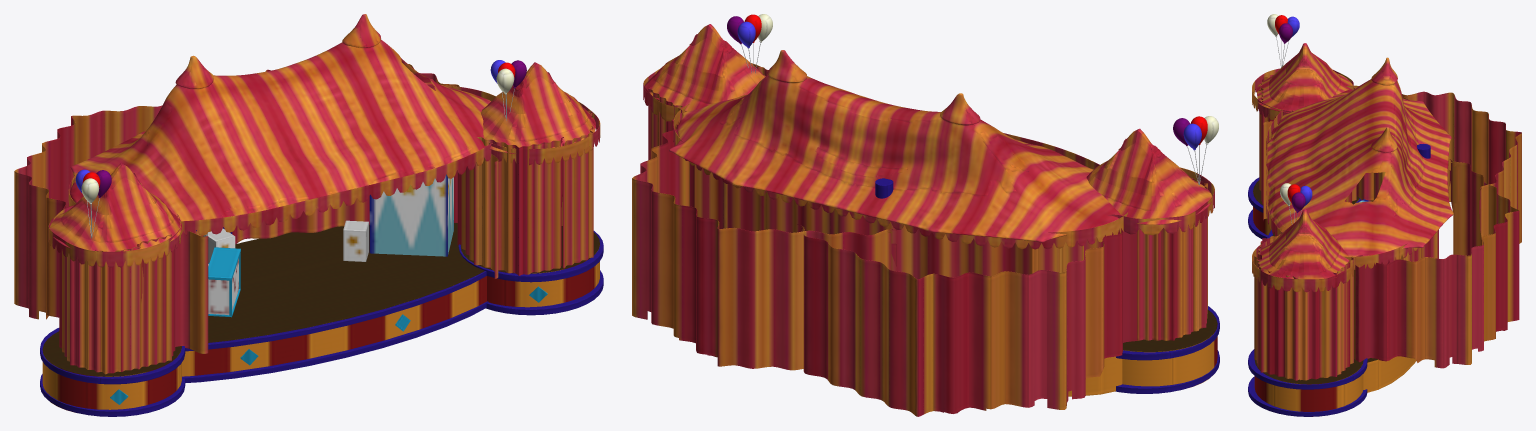
File: circus_playhouse_stage.glb
3 views of the same model, side by side, from view 1: azimuth 30°, elevation 25°; view 2: azimuth 150°, elevation 25°; view 3: azimuth 270°, elevation 25° (orthographic). The views are drawn at different scales.
Visible parts, largest first — view 1: tent, Main_Stage, Courtain_2, Courtain_3, courtain_2, Lionel_stage, Cubo, Ellie_stage, courtain, Courtain_2_2, Charlie_s_piano_1, Courtain (+3 smaller); view 2: tent, Courtain_2, Courtain, Main_Stage, courtain_2, Lionel_stage, Balloons, Balloons_2, Courtain_2_2; view 3: tent, Courtain, Courtain_2_2, Courtain_2, Ellie_stage, Main_Stage, Lionel_stage, Balloons, Balloons_2, courtain, courtain_2.
Part boxes in pixels (x1=…): tent: x1=48, y1=14, x2=600, y2=267; Main_Stage: x1=182, y1=170, x2=488, y2=382; Courtain_2: x1=14, y1=105, x2=208, y2=353; Courtain_3: x1=457, y1=137, x2=563, y2=275; courtain_2: x1=59, y1=247, x2=143, y2=374; Lionel_stage: x1=40, y1=328, x2=185, y2=416; Cubo: x1=369, y1=174, x2=453, y2=256; Ellie_stage: x1=458, y1=226, x2=603, y2=315; courtain: x1=137, y1=214, x2=178, y2=369; Courtain_2_2: x1=561, y1=111, x2=593, y2=268; Charlie_s_piano_1: x1=208, y1=247, x2=240, y2=317; Courtain: x1=265, y1=64, x2=498, y2=278; tent: x1=643, y1=24, x2=1214, y2=249; Courtain_2: x1=797, y1=224, x2=1137, y2=416; Courtain: x1=632, y1=119, x2=896, y2=370; Main_Stage: x1=689, y1=162, x2=1122, y2=396; courtain_2: x1=1137, y1=178, x2=1207, y2=340; Lionel_stage: x1=1115, y1=306, x2=1219, y2=393; Balloons: x1=1173, y1=116, x2=1218, y2=184; Balloons_2: x1=727, y1=14, x2=772, y2=73; Courtain_2_2: x1=648, y1=87, x2=682, y2=160; tent: x1=1252, y1=43, x2=1453, y2=292; Courtain: x1=1354, y1=159, x2=1519, y2=368; Courtain_2_2: x1=1254, y1=256, x2=1353, y2=380; Courtain_2: x1=1263, y1=91, x2=1521, y2=244; Ellie_stage: x1=1248, y1=349, x2=1367, y2=416; Main_Stage: x1=1267, y1=172, x2=1438, y2=392; Lionel_stage: x1=1248, y1=177, x2=1361, y2=238; Balloons: x1=1267, y1=14, x2=1299, y2=67; Balloons_2: x1=1280, y1=183, x2=1312, y2=224; courtain: x1=1260, y1=87, x2=1356, y2=204; courtain_2: x1=1259, y1=75, x2=1273, y2=189.
Size of the model in its own units: 28.76 by 13.35 by 15.22.
1 material, 1 textured.
